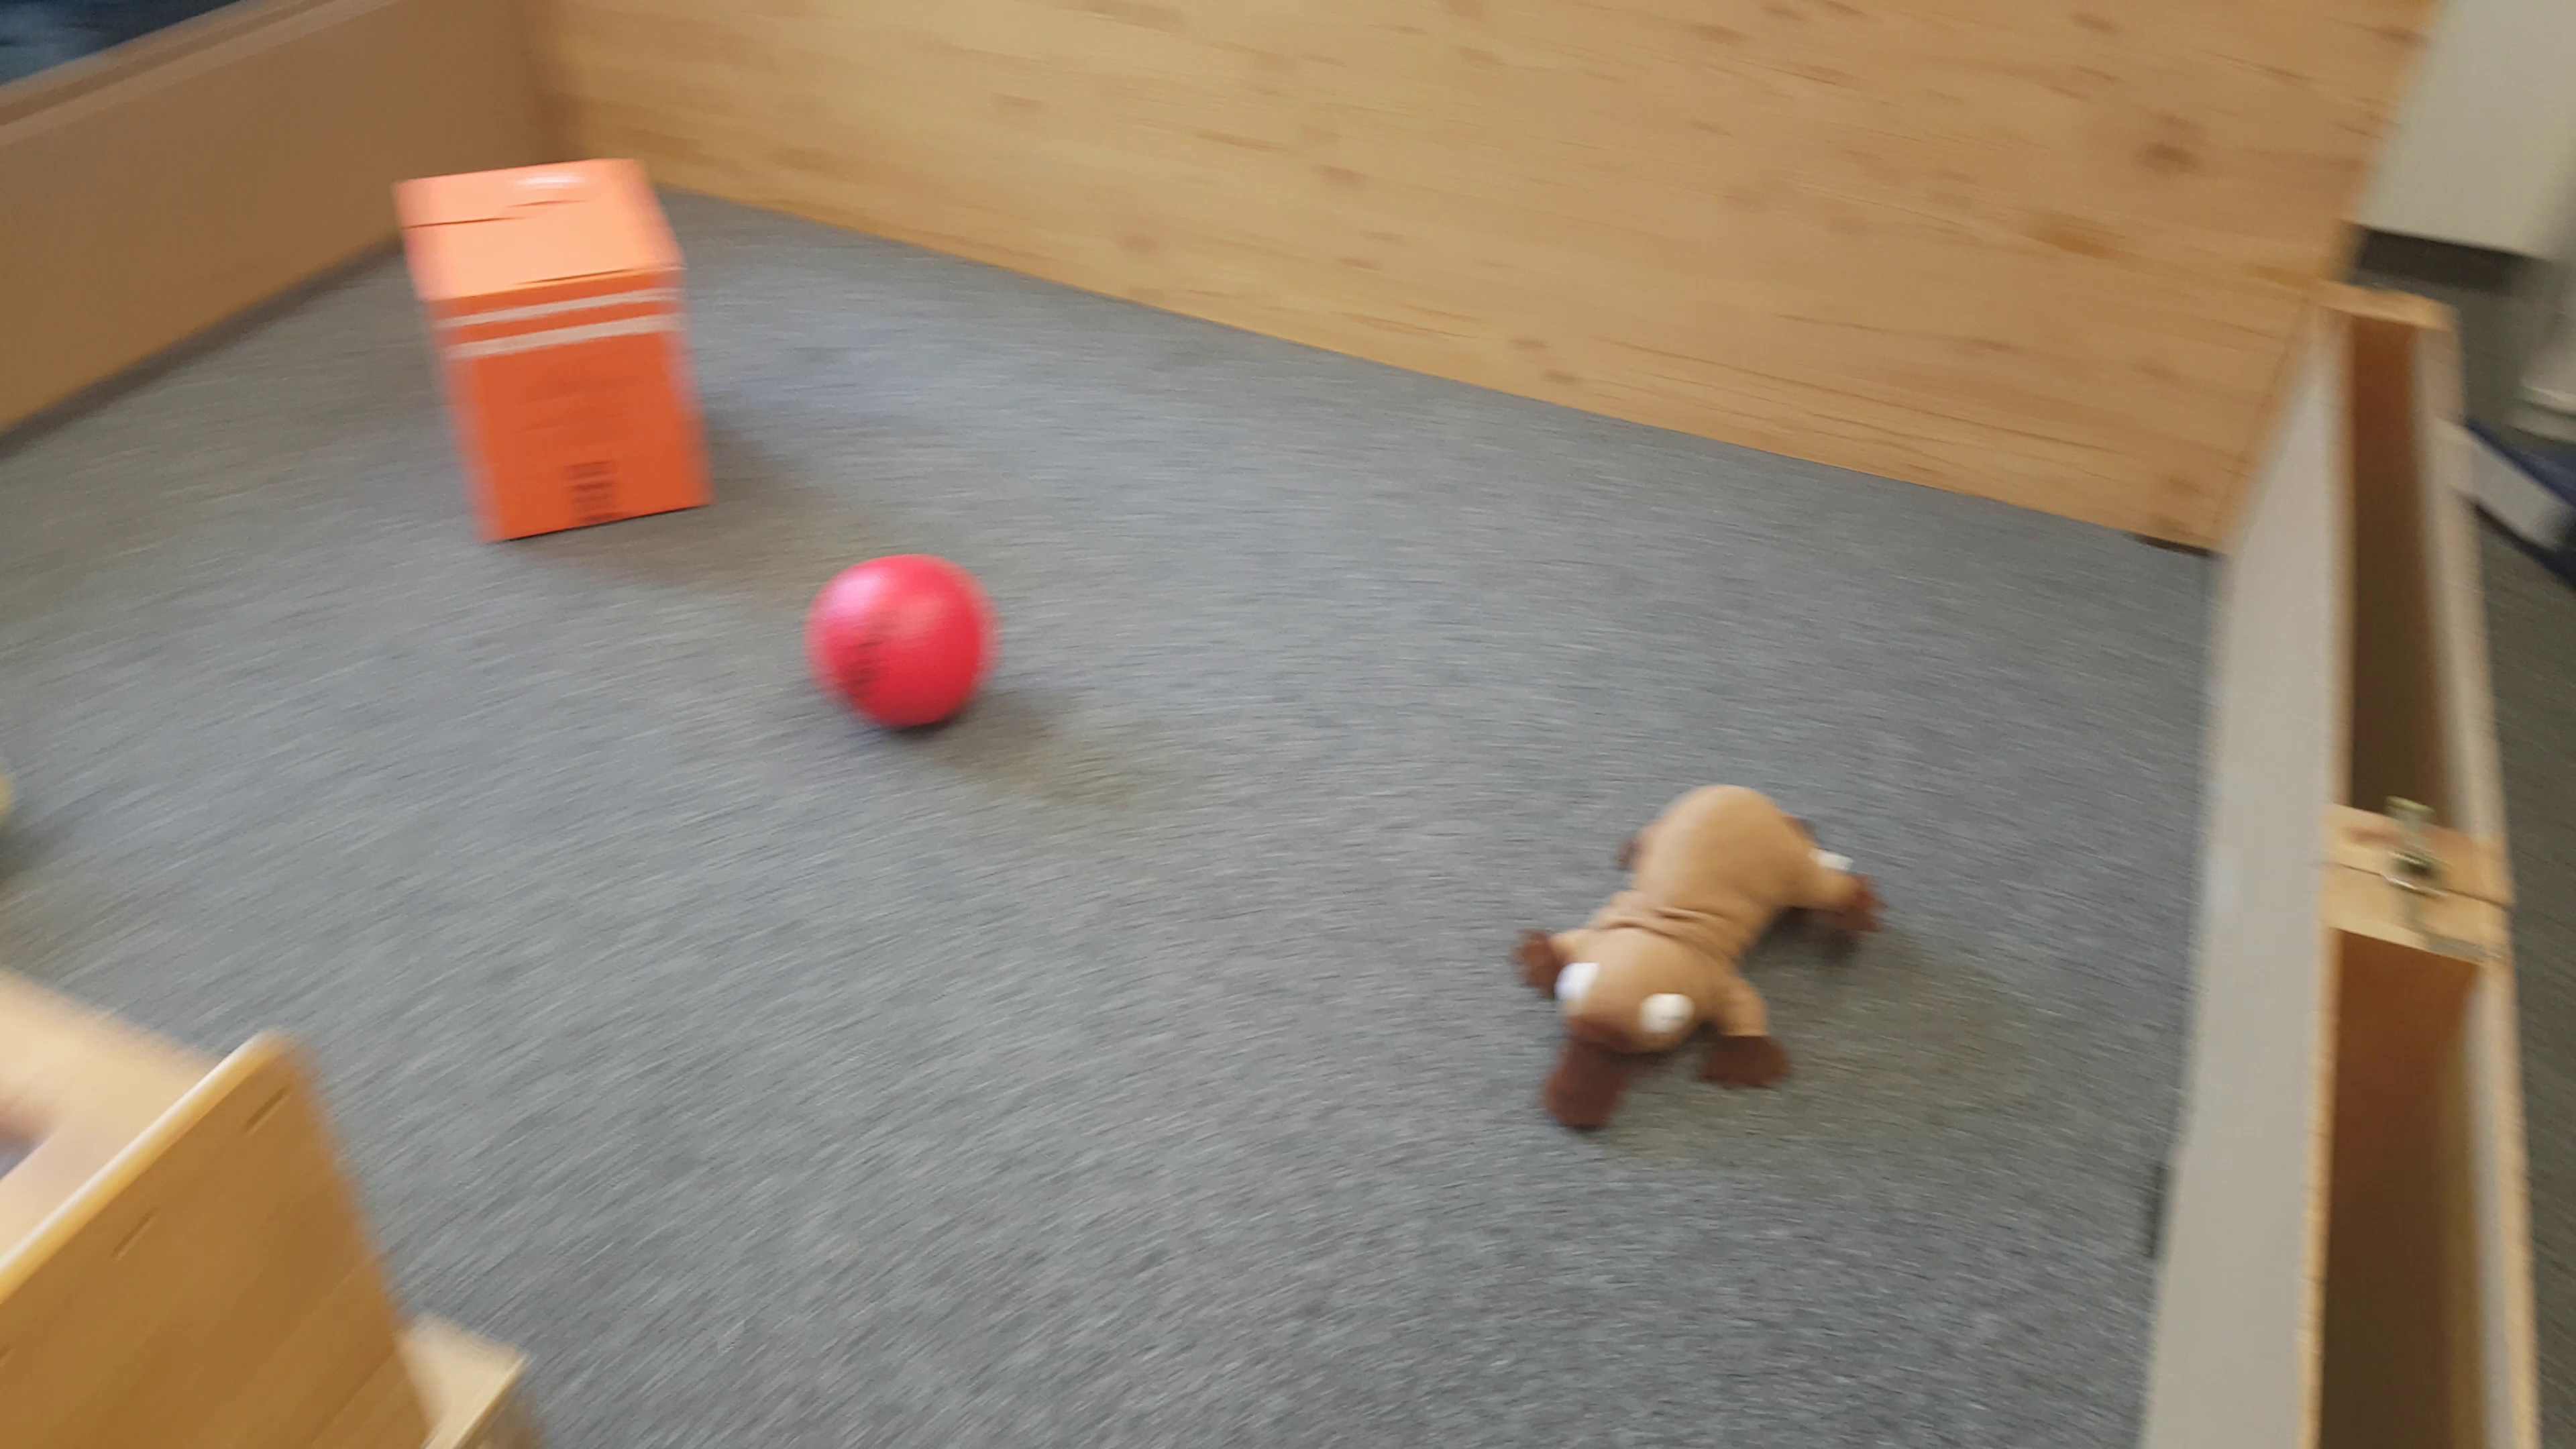grasp: (1507, 780, 1884, 1146)
kick: (809, 550, 996, 738)
push: (389, 152, 711, 548)
